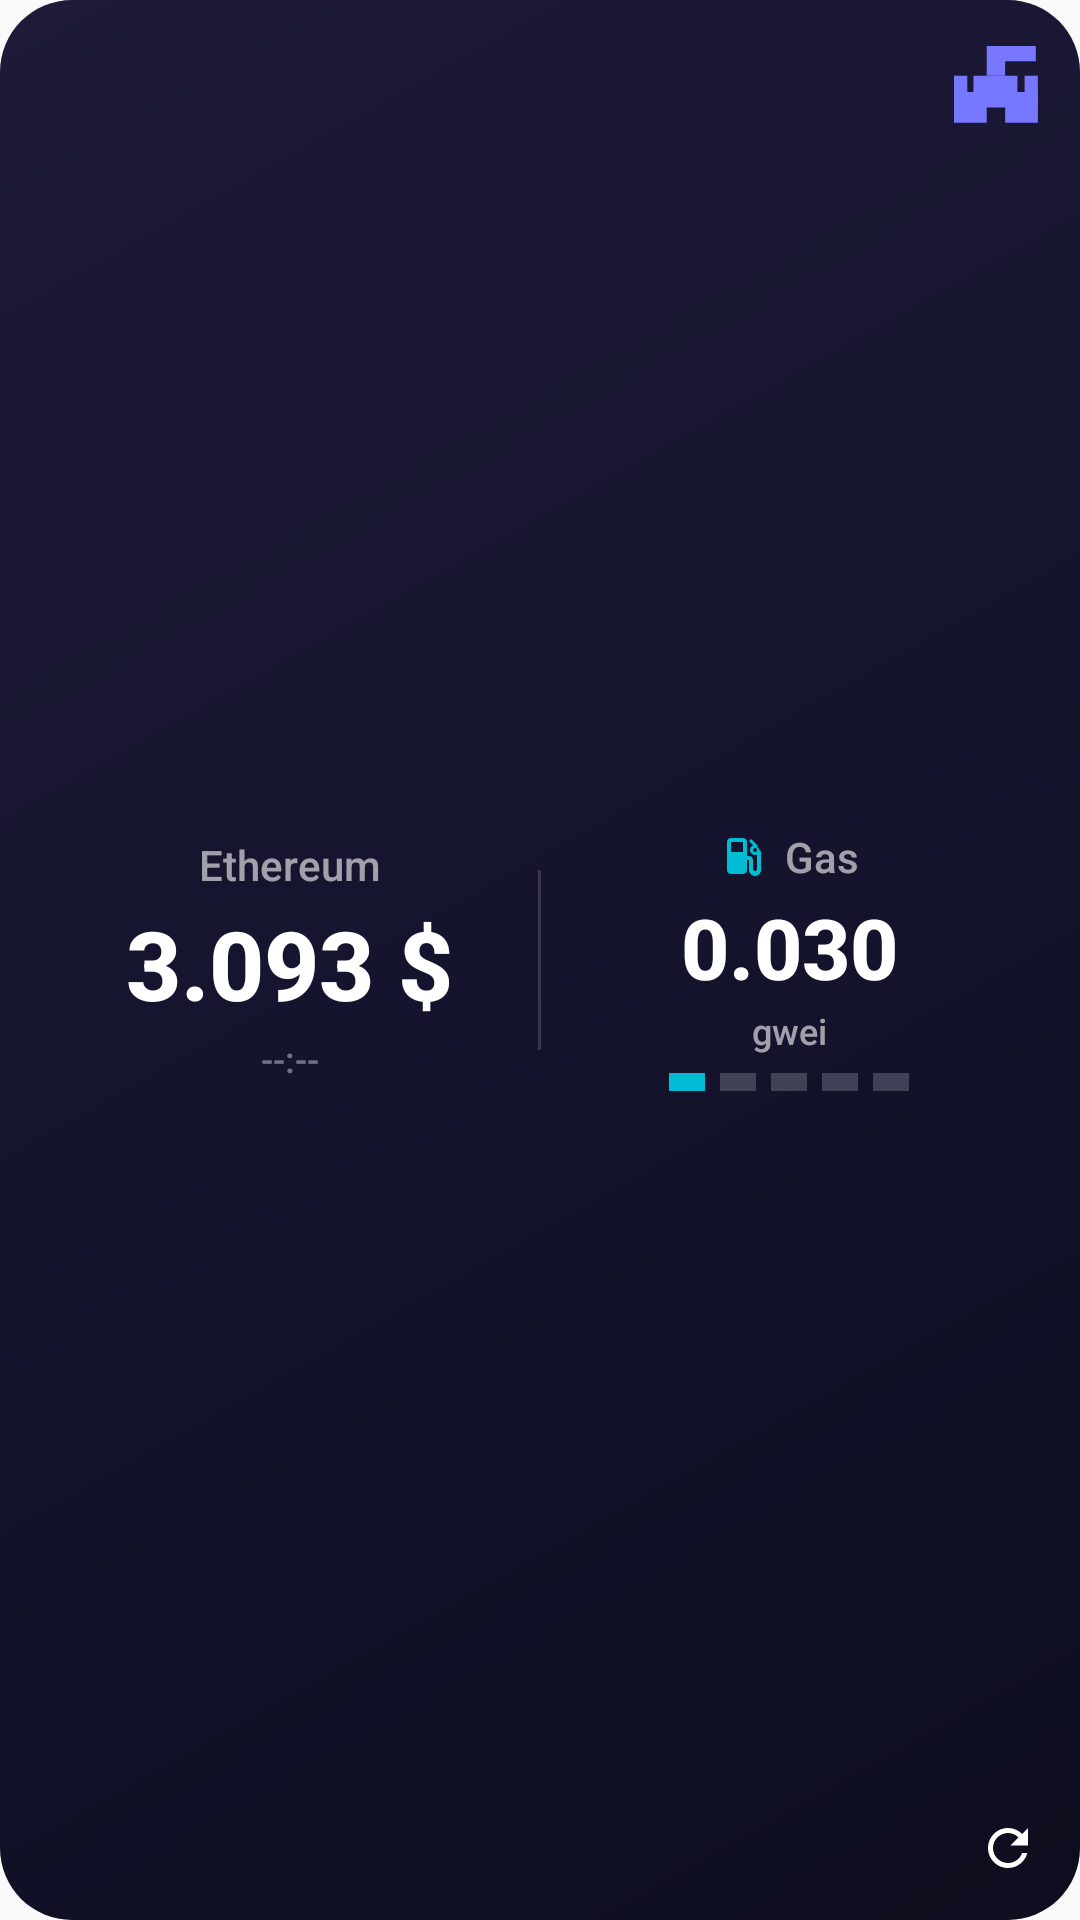

Icons on this 1080 × 1920 Android screen, each with the point to tap as point (x, y):
gas pump: point (744, 857)
refresh: point (1008, 1848)
